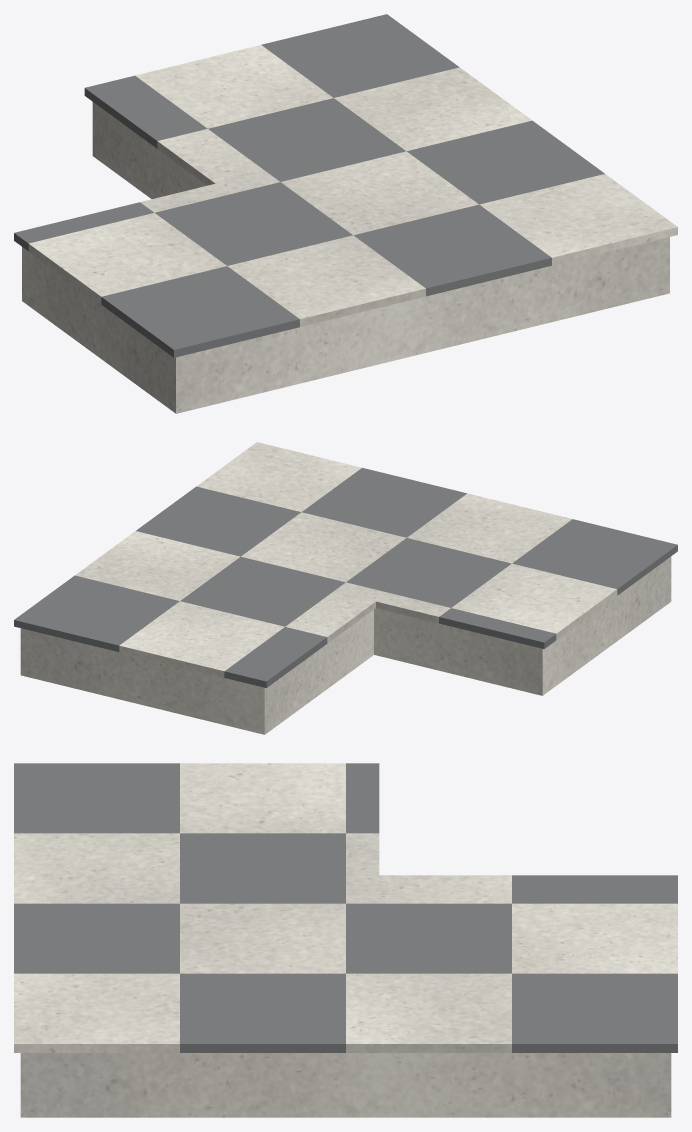
The model's file is floor_marble_u_h4.glb.
3 views of the same model, one above another, from view 1: azimuth 30°, elevation 25°; view 2: azimuth 150°, elevation 25°; view 3: azimuth 270°, elevation 25° (orthographic). The views are drawn at different scales.
Parts seen in each view (by area): view 1: floor_marble_u_h4_slate, floor_marble_u_h4_marble, floor_marble_u_h4_plaster; view 2: floor_marble_u_h4_slate, floor_marble_u_h4_marble, floor_marble_u_h4_plaster; view 3: floor_marble_u_h4_slate, floor_marble_u_h4_marble, floor_marble_u_h4_plaster.
Part boxes in pixels (box(x1,y1,x2,y2)): floor_marble_u_h4_slate: box(14, 14, 604, 357); floor_marble_u_h4_marble: box(28, 45, 677, 326); floor_marble_u_h4_plaster: box(22, 102, 669, 413); floor_marble_u_h4_slate: box(14, 467, 677, 687); floor_marble_u_h4_marble: box(75, 442, 617, 677); floor_marble_u_h4_plaster: box(20, 556, 671, 734); floor_marble_u_h4_slate: box(14, 763, 677, 1052); floor_marble_u_h4_marble: box(14, 763, 677, 1052); floor_marble_u_h4_plaster: box(20, 1053, 671, 1117).
Size of the model in its own units: 2 by 0.255 by 2.
Materials: 3 (2 with a texture image).
